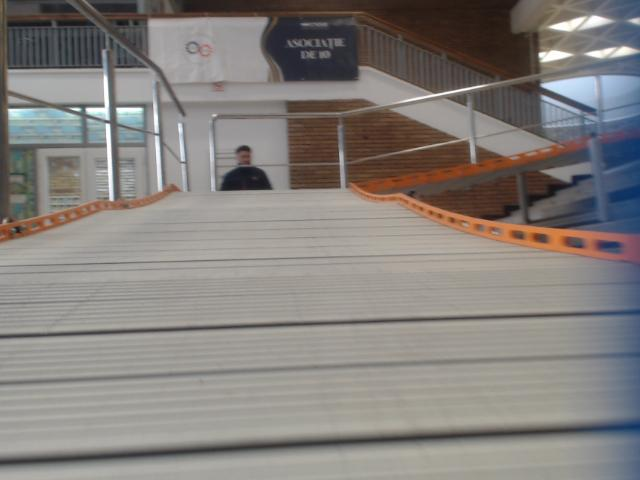rampUp: (0, 186, 639, 479)
ramps-railing: (208, 56, 625, 190), (0, 0, 184, 226), (56, 0, 188, 202), (217, 110, 598, 168)
